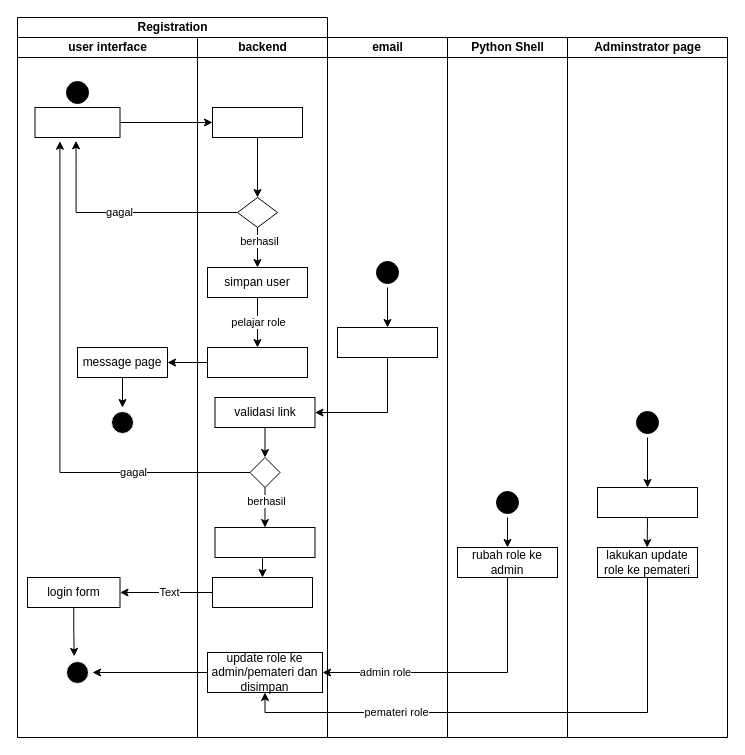
This 745x755 diagram has some shape labels left out. Here are the shapes that lost their labels. From the top down, the centre of each, then its label:
At (x=77, y=122): "Registrasi Form".
At (x=257, y=122): "Validasi".
At (x=257, y=362): "kirim email".
At (x=387, y=342): "klik link aktivasi akun".
At (x=647, y=502): "login sebagai admin".
At (x=264, y=542): "user diaktifkan".
At (x=262, y=592): "update status aktif".
